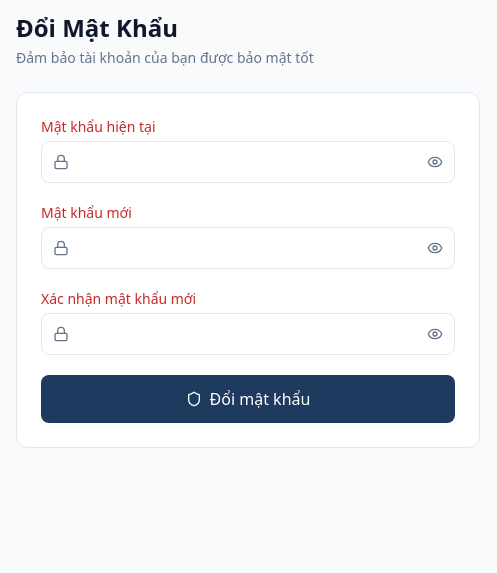
Test case: SettingsPasswordPage › shows error when passwords do not match
Type "OldPass@1" into the password field with test id "current-password-input" at (248, 162), box x1=41 y1=141 x2=455 y2=183
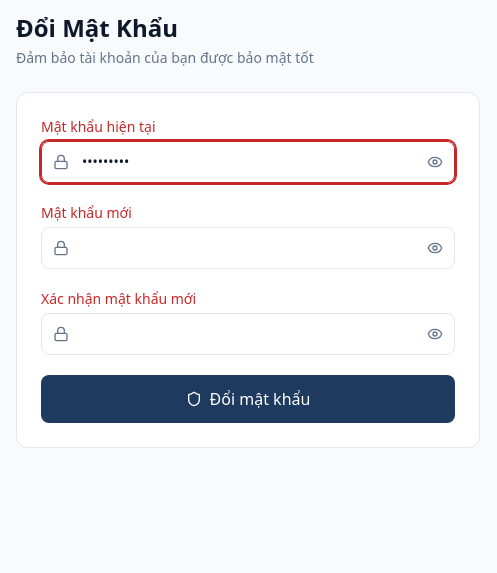
Type "NewPass@1" into the password field with test id "new-password-input" at (248, 248), box x1=41 y1=227 x2=455 y2=269
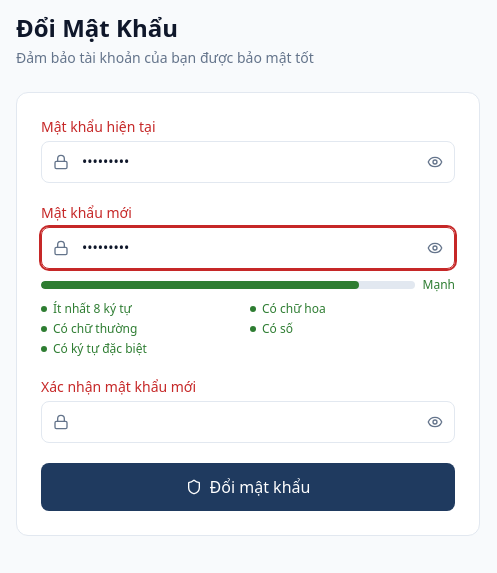
Type "Mismatch@1" into the password field with test id "confirm-password-input" at (248, 422), box x1=41 y1=401 x2=455 y2=443
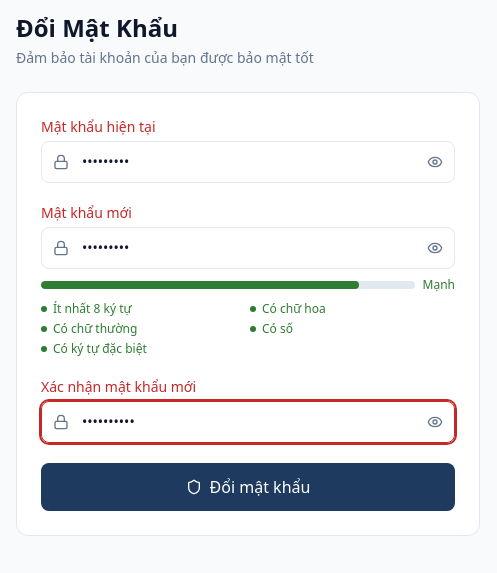
Click the button with test id "change-password-btn" at (248, 487), box x1=41 y1=463 x2=455 y2=511
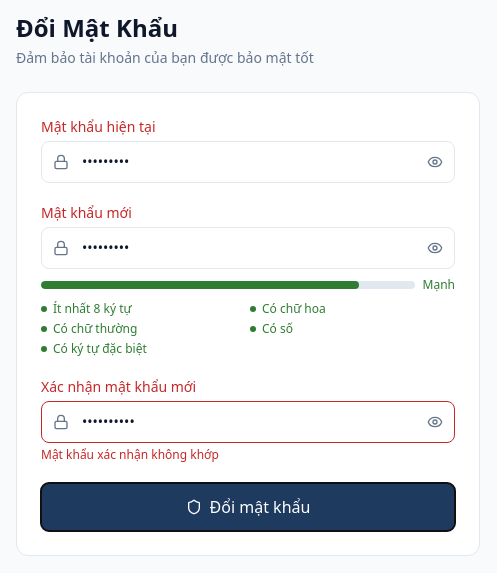
Result: the text "Mật khẩu xác nhận không khớp" is shown at x1=41 y1=446 x2=219 y2=463
